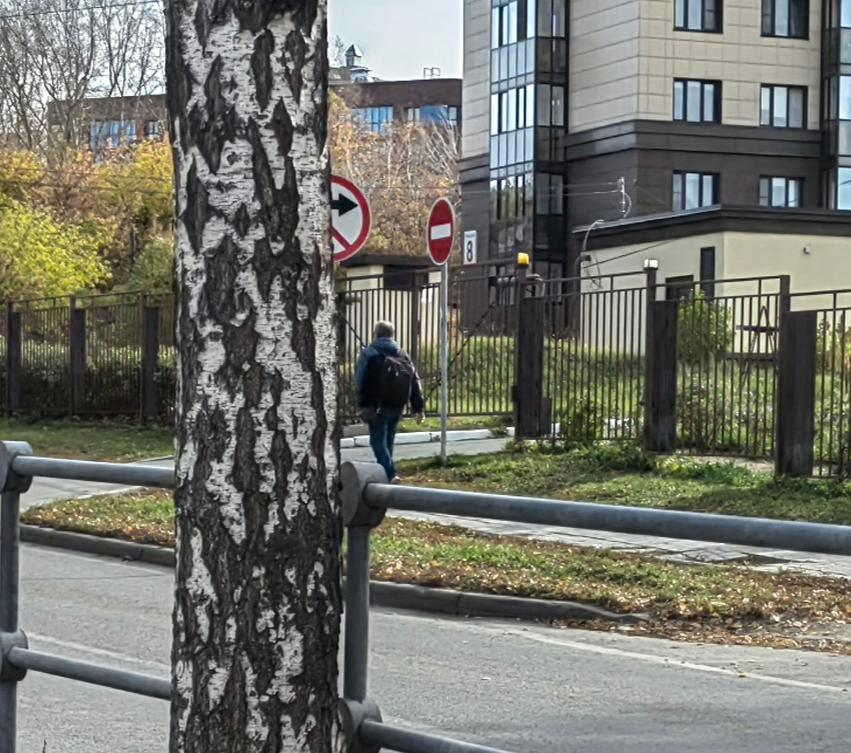obstructed_road_sign: (331, 175, 371, 261)
road_sign: (426, 198, 455, 265)
